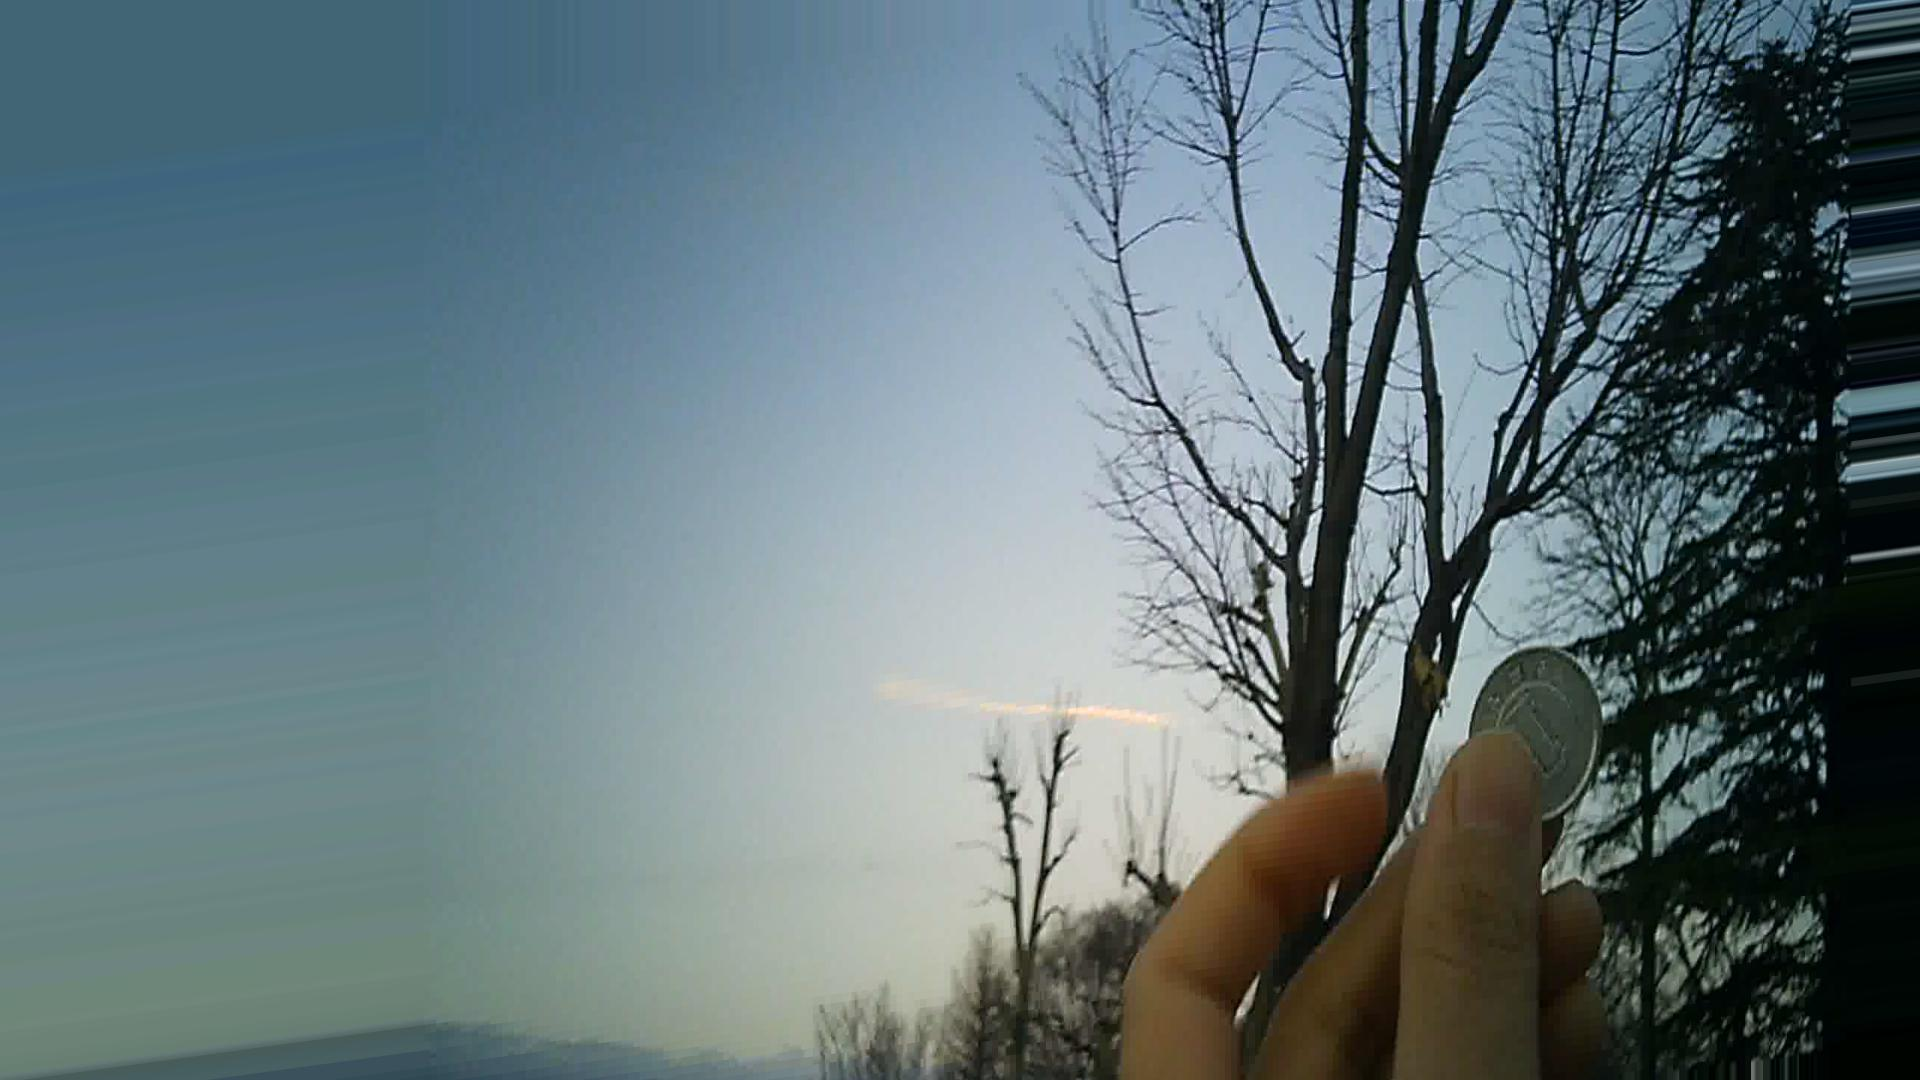1 Yen: (1473, 649, 1601, 843)
